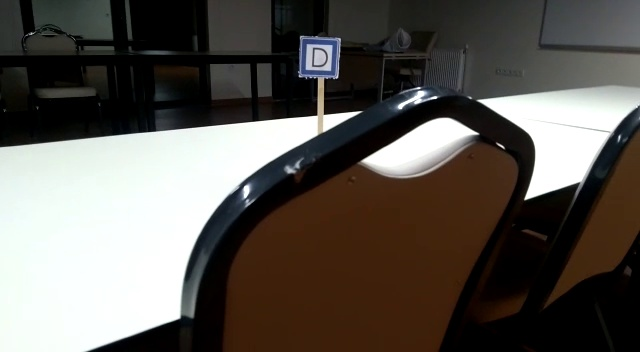durak: (299, 37, 339, 76)
